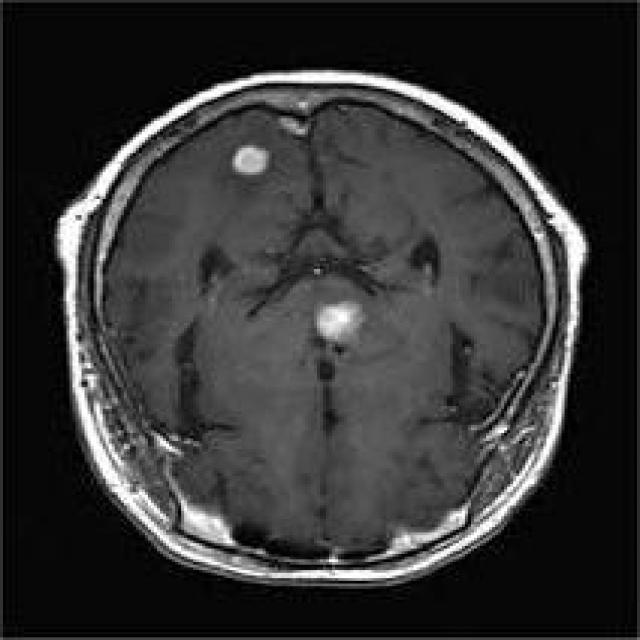no-tumor: (136, 210, 481, 526)
